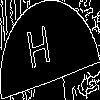H: (25, 25, 53, 79)
